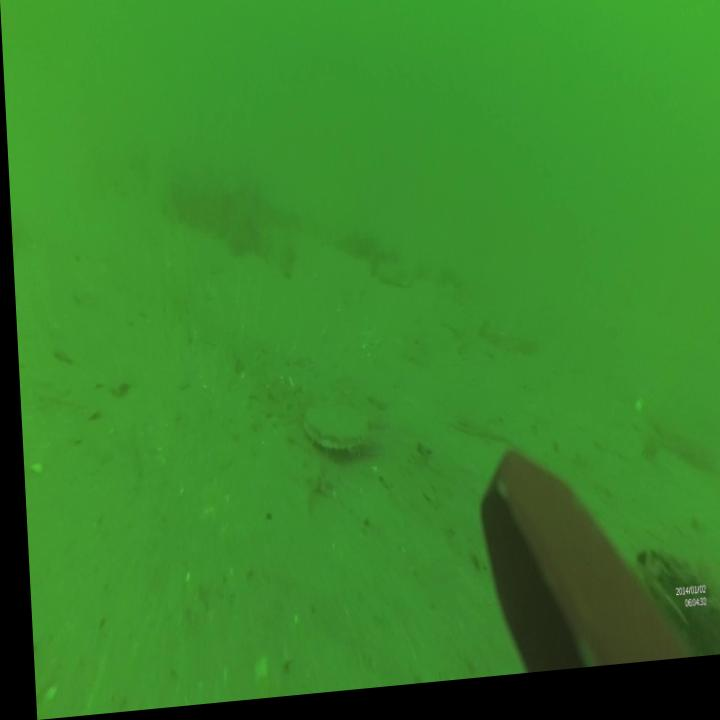scallop: (296, 405, 369, 465)
